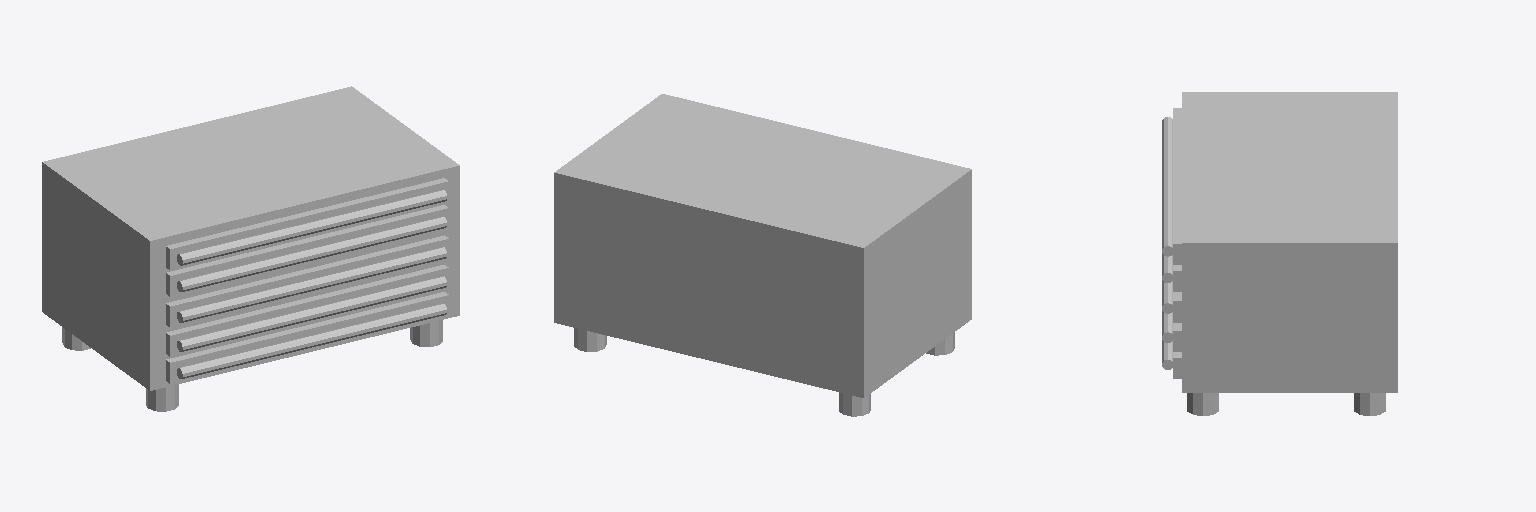
The model's file is tool drawer.obj.
3 views of the same model, side by side, from view 1: azimuth 30°, elevation 25°; view 2: azimuth 150°, elevation 25°; view 3: azimuth 270°, elevation 25° (orthographic).
Visible parts, largest first — view 1: Tool_drawer1; view 2: Tool_drawer1; view 3: Tool_drawer1.
Part boxes in pixels (bbox=[...]): Tool_drawer1: bbox=[42, 86, 459, 411]; Tool_drawer1: bbox=[554, 94, 971, 416]; Tool_drawer1: bbox=[1162, 92, 1397, 415].
Size of the model in its own units: 166 by 90.59 by 109.